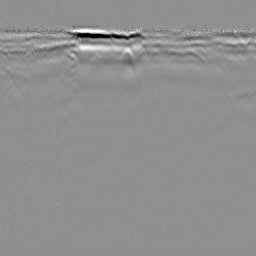cavity: (118, 46, 137, 63)
